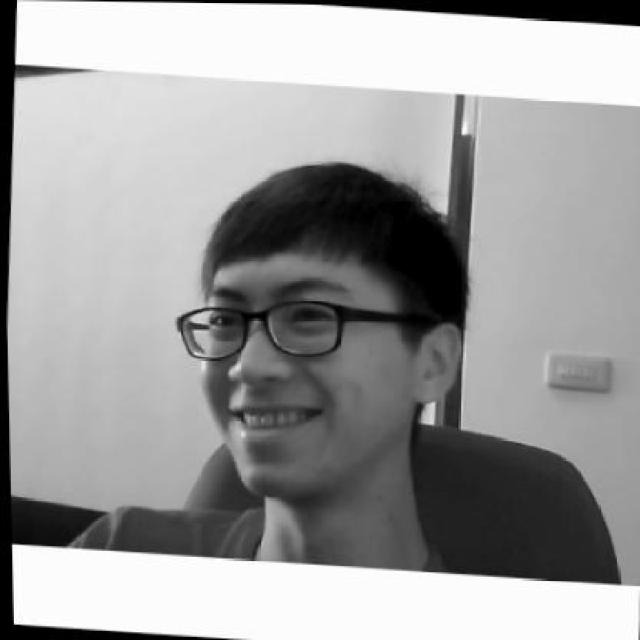attentif: (164, 152, 470, 503)
